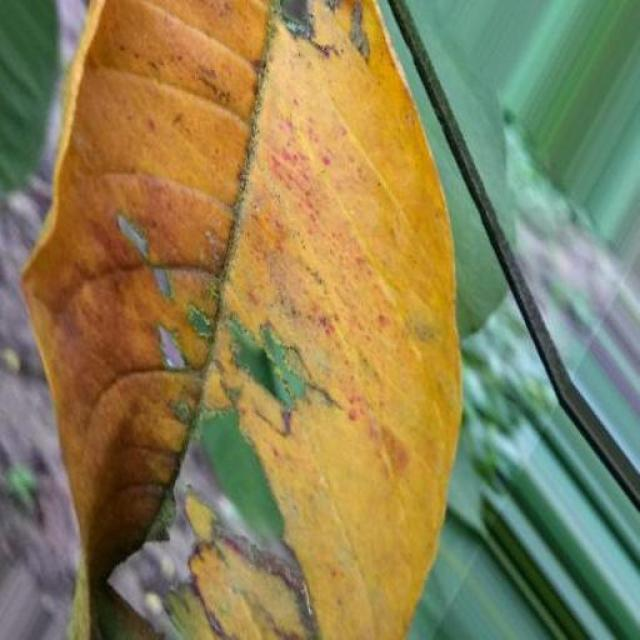Rust: (24, 0, 460, 640)
